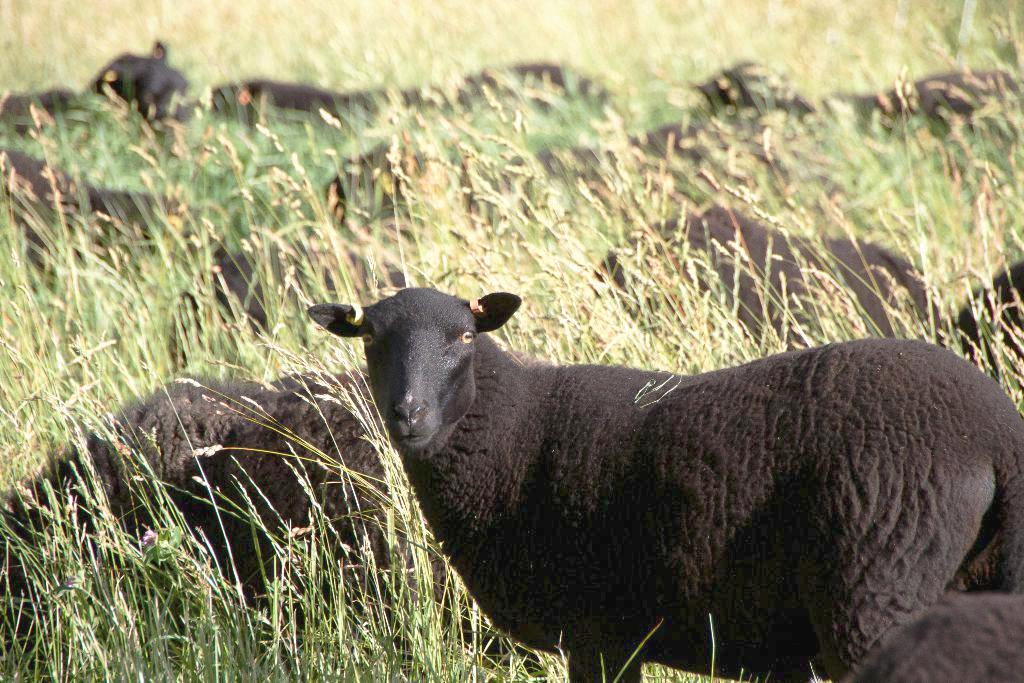Sheep: (300, 271, 1023, 676), (0, 368, 493, 649), (0, 30, 198, 134)
